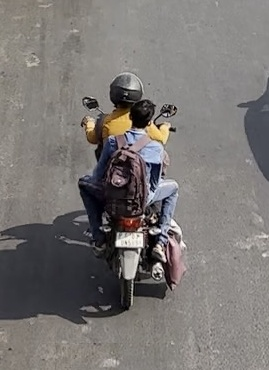BikeWithRider: (77, 70, 189, 311)
Helmet: (106, 73, 146, 112)
NoHelmet: (127, 98, 156, 132)
